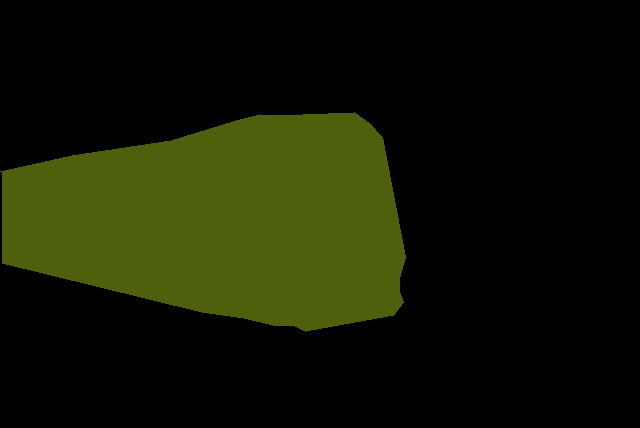Train: (0, 112, 405, 331)
